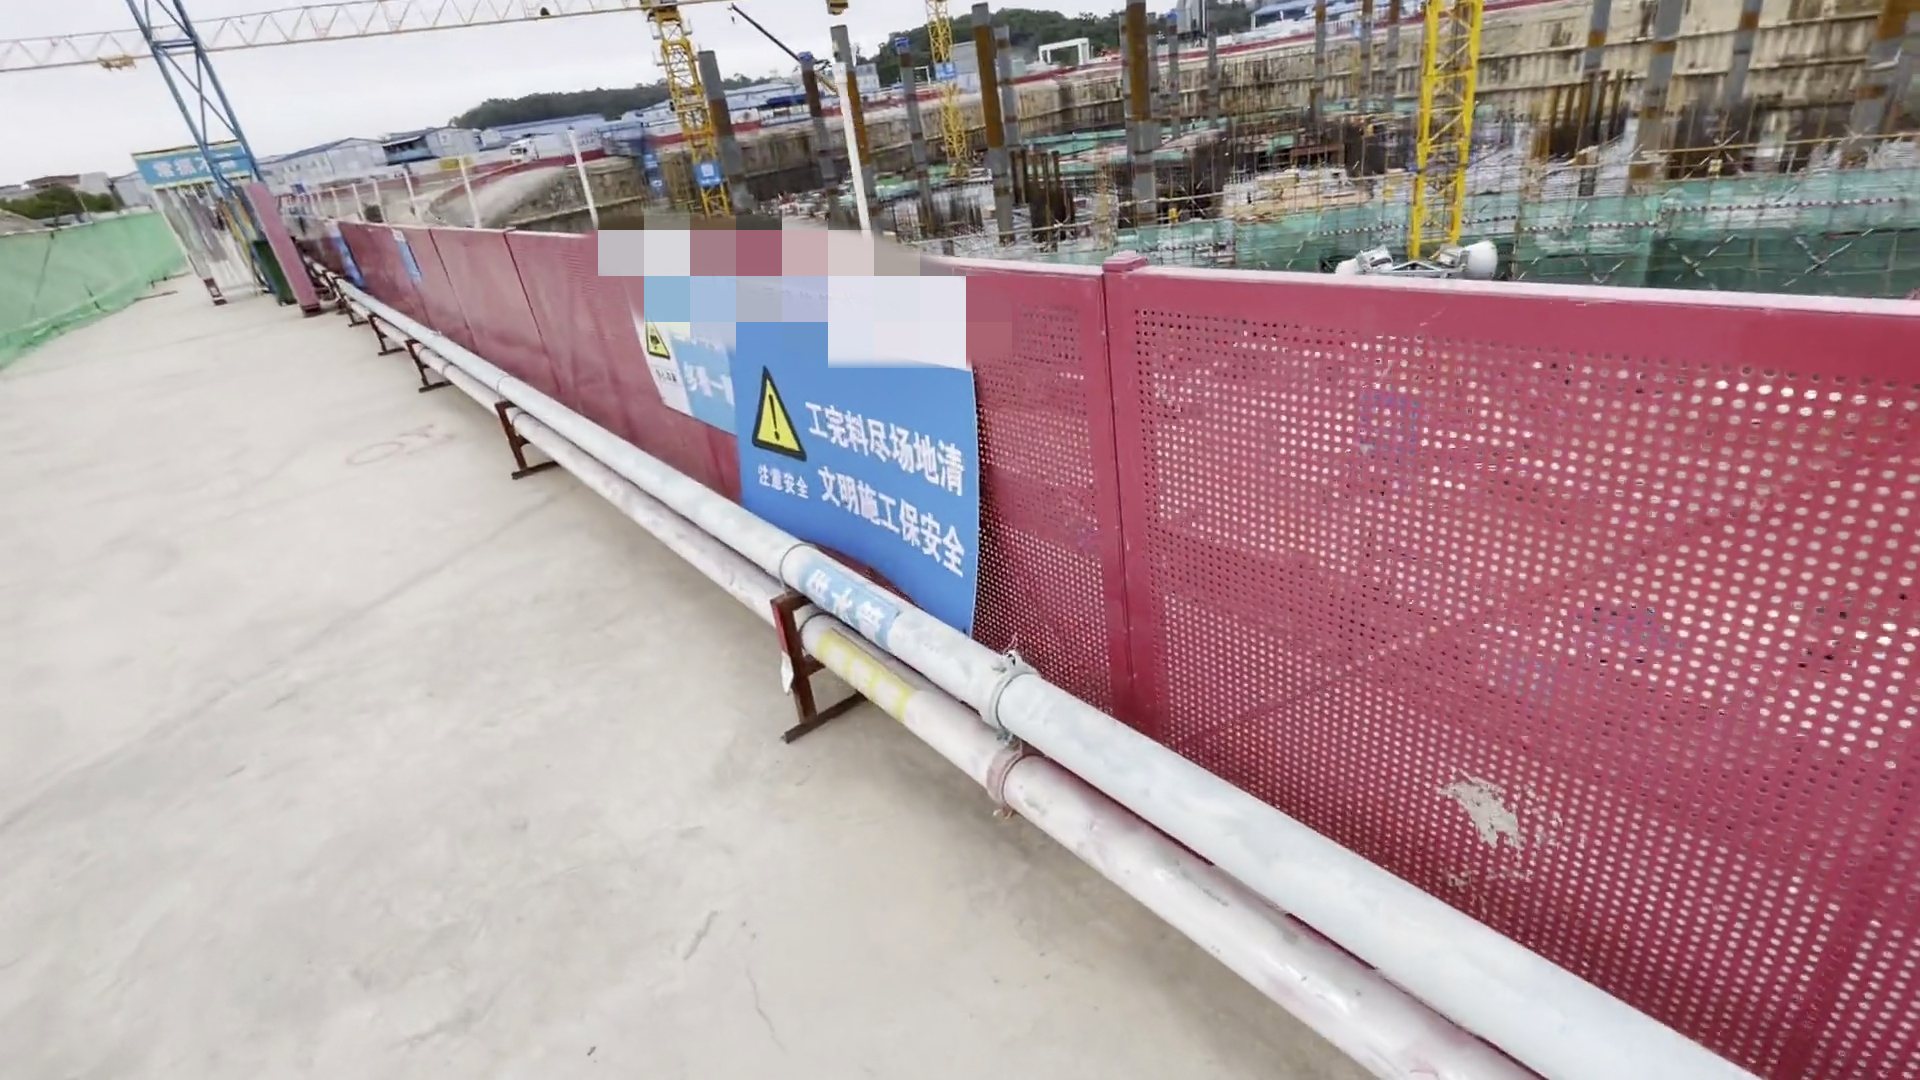fence: (284, 204, 1898, 1062)
slogan: (638, 272, 982, 580), (127, 142, 266, 193)
